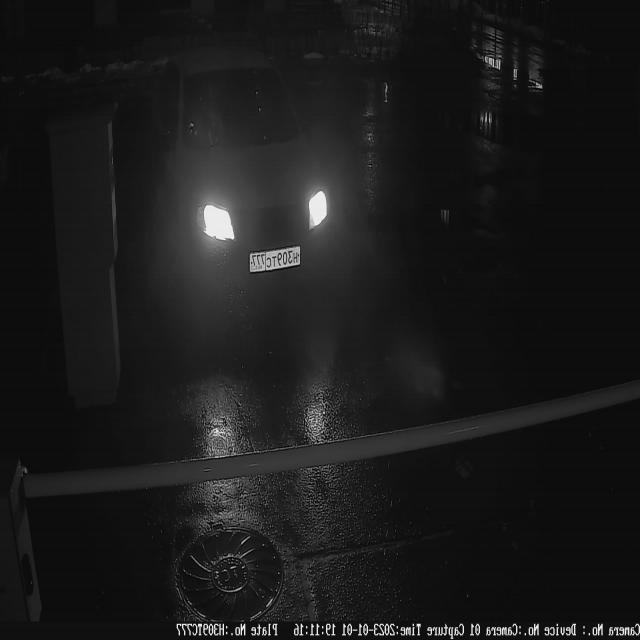car-plate-numbers: (248, 240, 305, 277)
